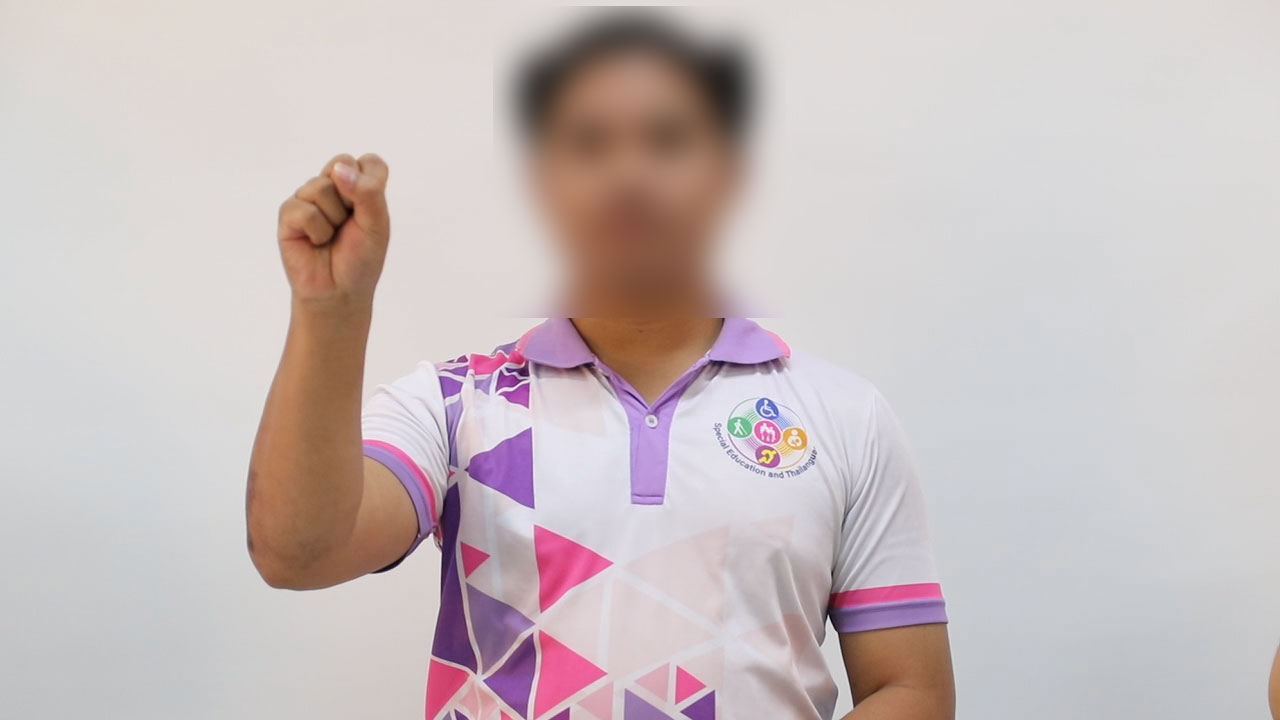sor: (267, 138, 421, 325)
